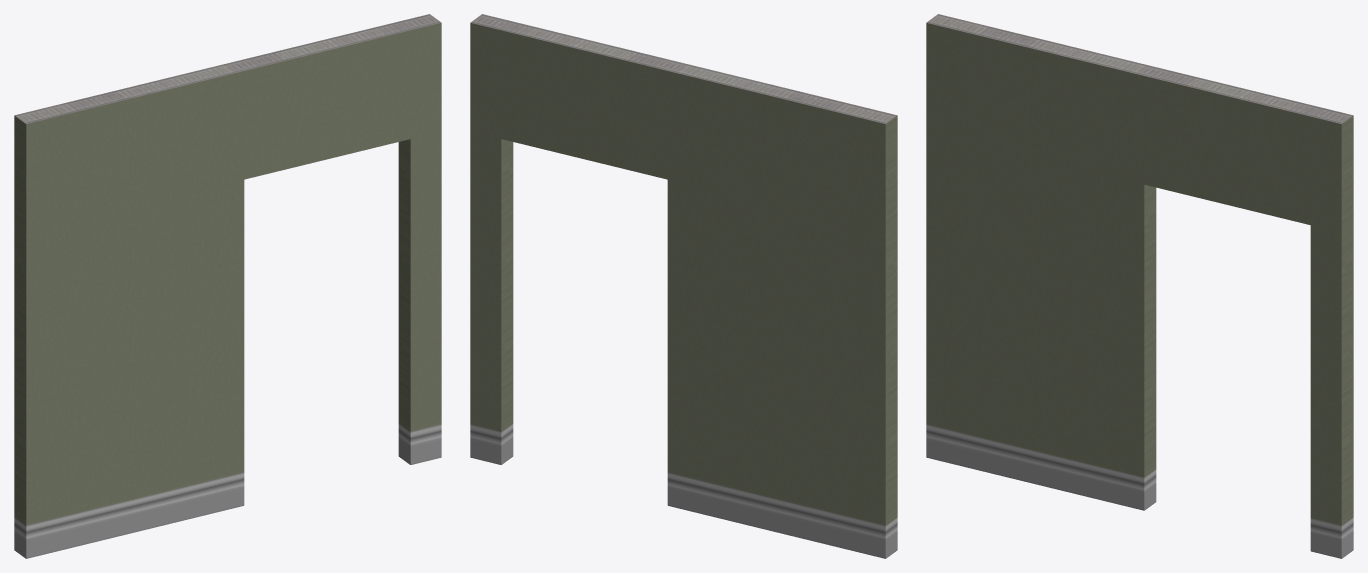
The model's file is wall3_3.fbx.
3 renders of one model, left to right at view 1: azimuth 30°, elevation 25°; view 2: azimuth 150°, elevation 25°; view 3: azimuth 330°, elevation 25°, orthographic.
Visible parts, largest first — view 1: wall3_willow_c; view 2: wall3_willow_c; view 3: wall3_willow_c.
Part boxes in pixels (x1,y1,x2,y2): wall3_willow_c: [14, 14, 441, 558]; wall3_willow_c: [470, 14, 897, 558]; wall3_willow_c: [926, 14, 1353, 558].
Size of the model in its own units: 400 by 400 by 20.
